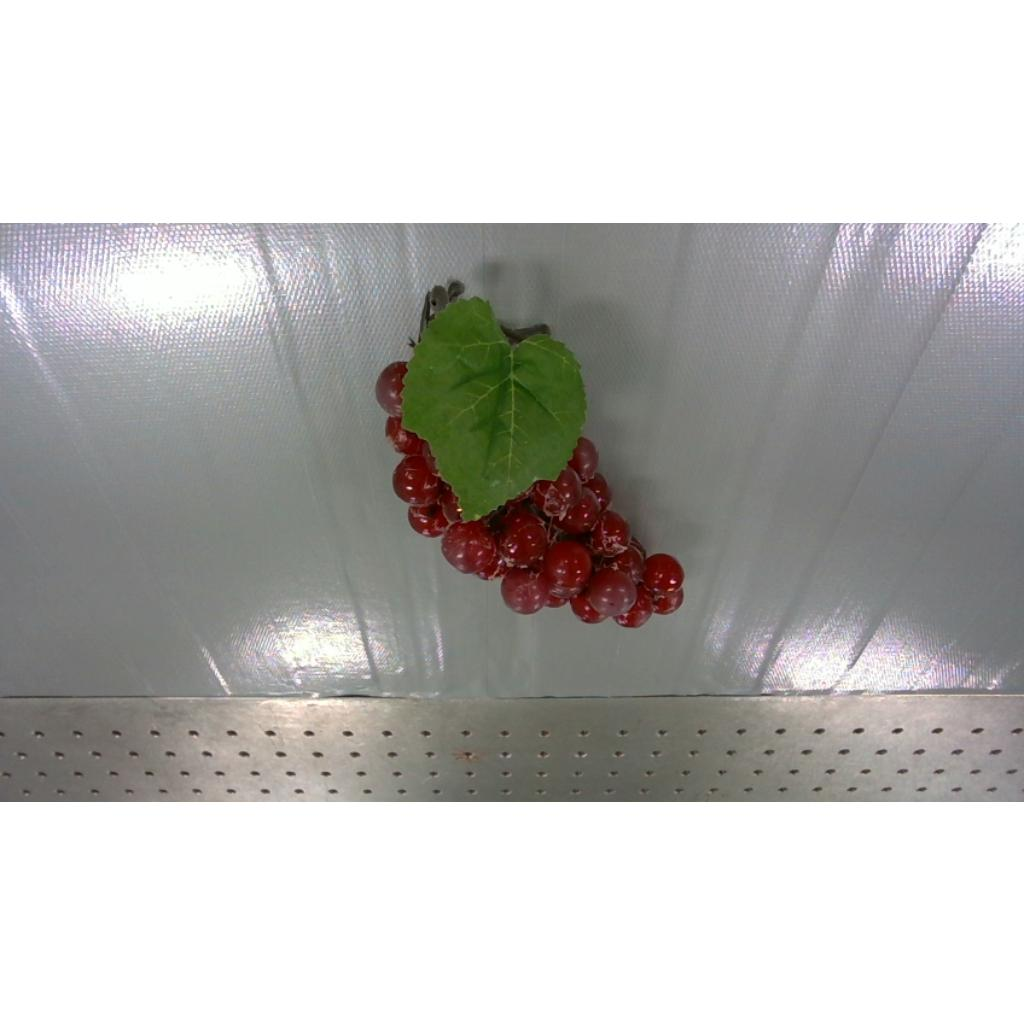grape: (376, 282, 684, 628)
